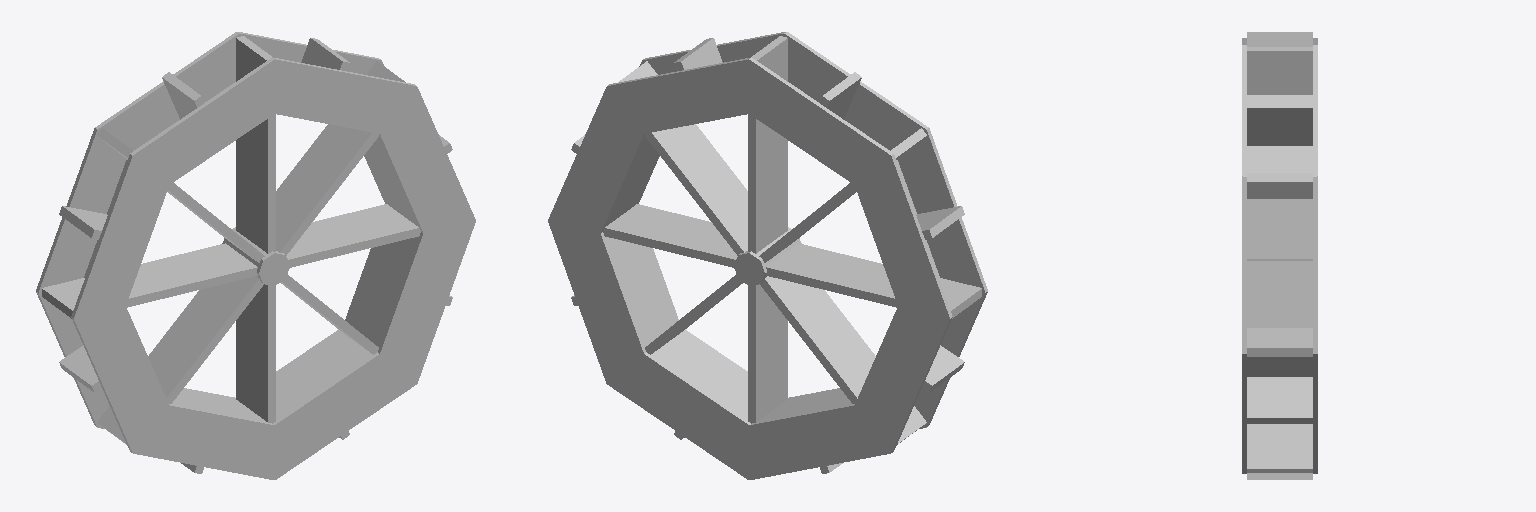
File: watermill.obj
3 views of the same model, side by side, from view 1: azimuth 30°, elevation 25°; view 2: azimuth 150°, elevation 25°; view 3: azimuth 270°, elevation 25° (orthographic).
Parts seen in each view (by area): view 1: watermill; view 2: watermill; view 3: watermill.
Boxes of the visible parts, <box> form: watermill: <box>36,32,475,479</box>; watermill: <box>548,32,987,479</box>; watermill: <box>1242,32,1317,479</box>.
Bounding box in the file's own units: 6.22 × 6.22 × 1.02.